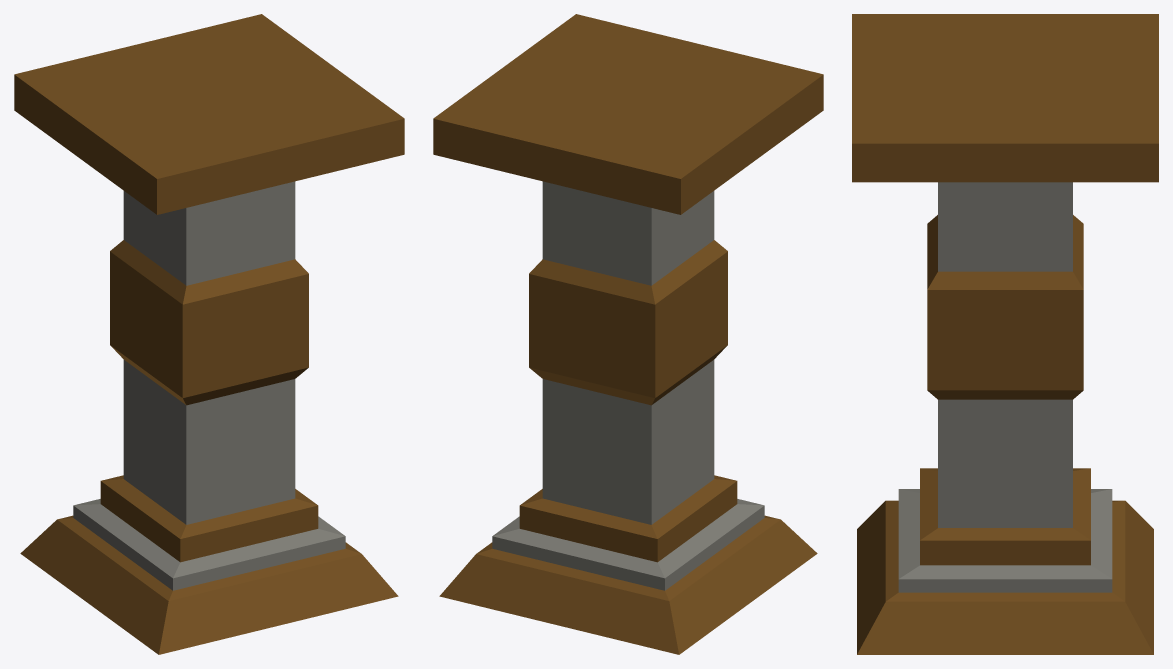
Rendered from table.fbx.
The picture shows the model from 3 angles, left to right: view 1: azimuth 30°, elevation 25°; view 2: azimuth 150°, elevation 25°; view 3: azimuth 270°, elevation 25°; orthographic projection. The views are drawn at different scales.
Visible parts, largest first — view 1: Table; view 2: Table; view 3: Table.
Boxes of the visible parts, <box> form: Table: <box>14,14,404,654</box>; Table: <box>433,14,823,654</box>; Table: <box>852,14,1158,654</box>.
Size of the model in its own units: 43.93 by 43.93 by 81.1.
